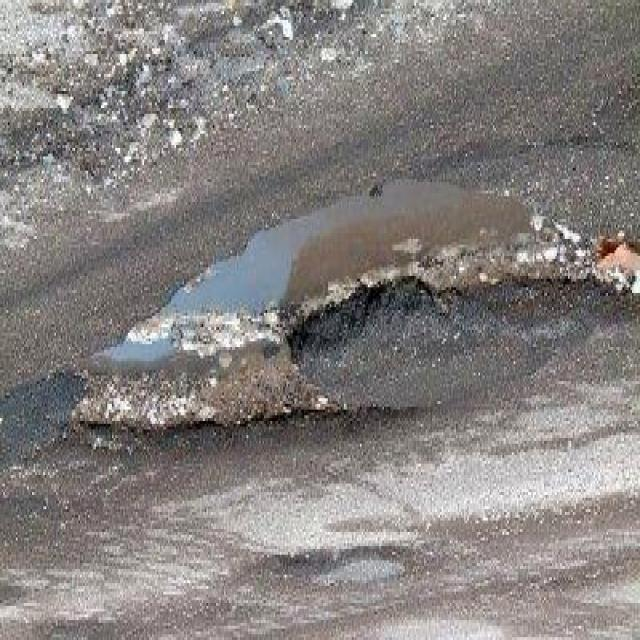lubang: (60, 168, 618, 468)
